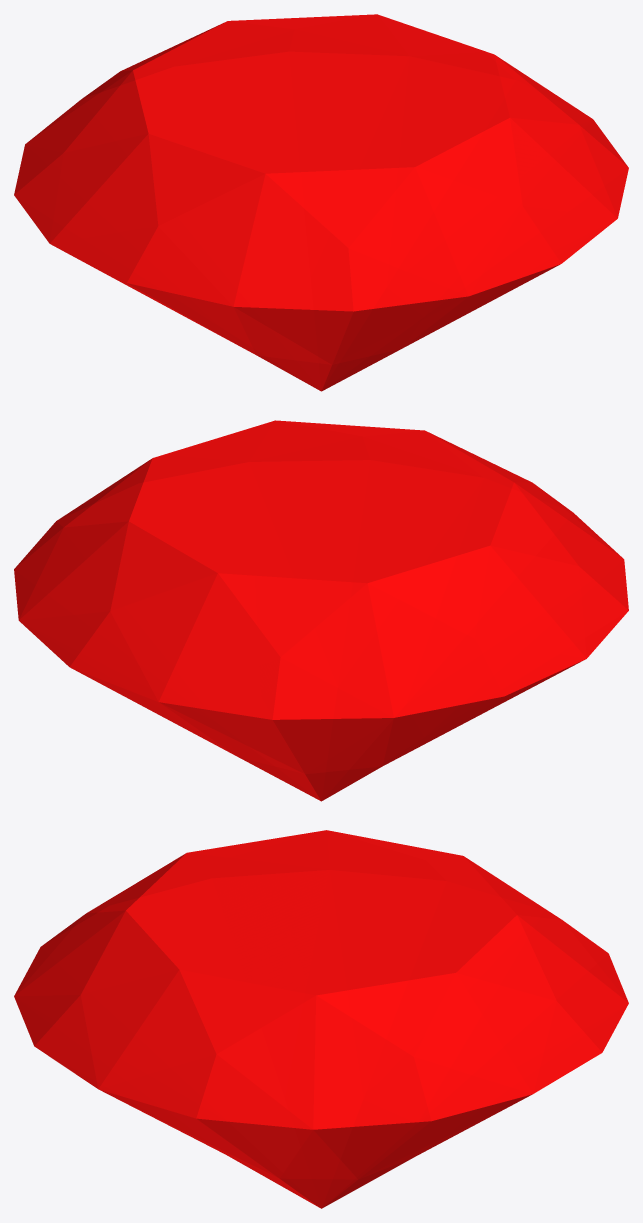
The model's file is Ruby.dae.
3 views of the same model, one above another, from view 1: azimuth 30°, elevation 25°; view 2: azimuth 150°, elevation 25°; view 3: azimuth 270°, elevation 25° (orthographic).
Visible parts, largest first — view 1: Cylinder_011; view 2: Cylinder_011; view 3: Cylinder_011.
Part boxes in pixels (x1,y1,x2,y2): Cylinder_011: (14,14,628,391); Cylinder_011: (14,420,628,801); Cylinder_011: (14,830,628,1208).
Bounding box in the file's own units: 0.4965 × 0.4965 × 0.2637.
